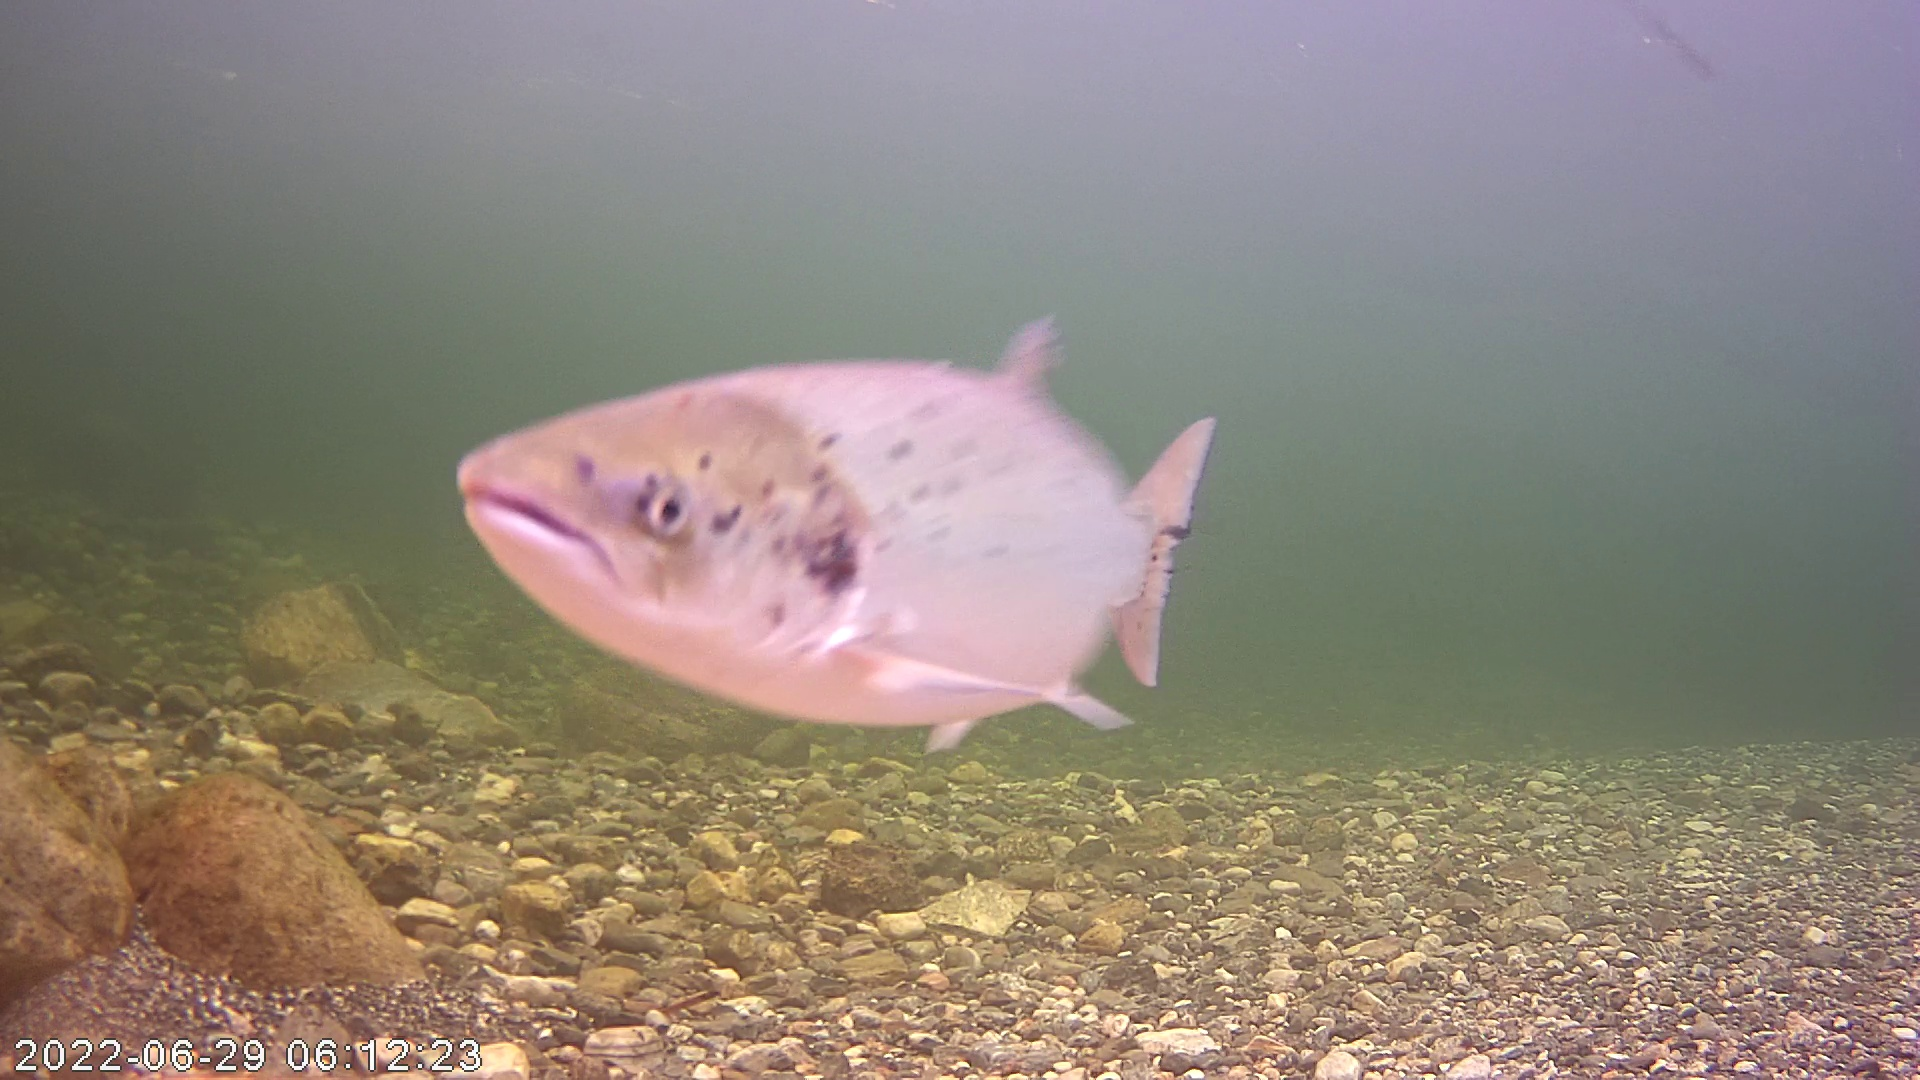salmon: (440, 222, 1230, 756)
